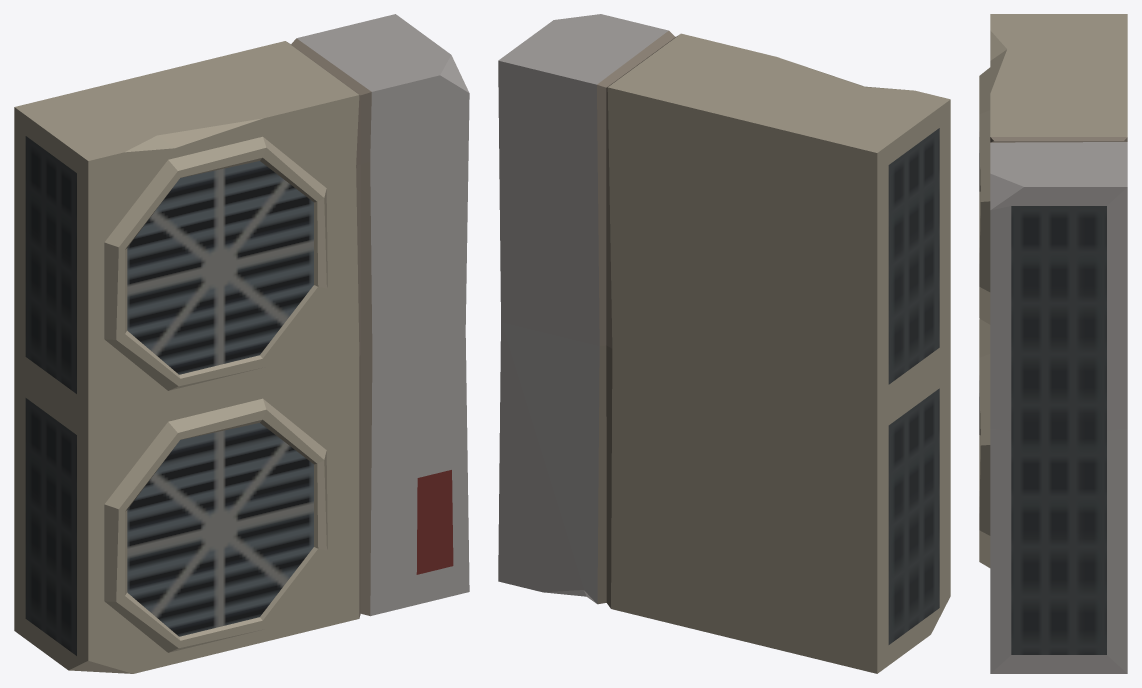
Rendered from SM_Prop_Airconditioner_04.glb.
3 renders of one model, left to right at view 1: azimuth 30°, elevation 25°; view 2: azimuth 150°, elevation 25°; view 3: azimuth 270°, elevation 25°, orthographic. The views are drawn at different scales.
Visible parts, largest first — view 1: SM_Prop_Airconditioner_04; view 2: SM_Prop_Airconditioner_04; view 3: SM_Prop_Airconditioner_04.
Part boxes in pixels (x1,y1,x2,y2): SM_Prop_Airconditioner_04: [14, 14, 469, 673]; SM_Prop_Airconditioner_04: [498, 14, 950, 673]; SM_Prop_Airconditioner_04: [979, 14, 1127, 673].
Size of the model in its own units: 1.07 by 1.41 by 0.3902.
Materials: 1 (1 with a texture image).
